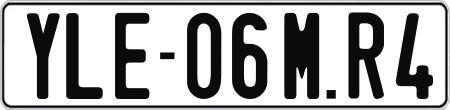0: (185, 10, 225, 102)
4: (393, 13, 430, 105)
6: (231, 12, 271, 101)
E: (114, 12, 152, 101)
L: (63, 10, 100, 96)
M: (282, 12, 323, 98)
R: (347, 12, 386, 103)
Y: (26, 12, 61, 101)
